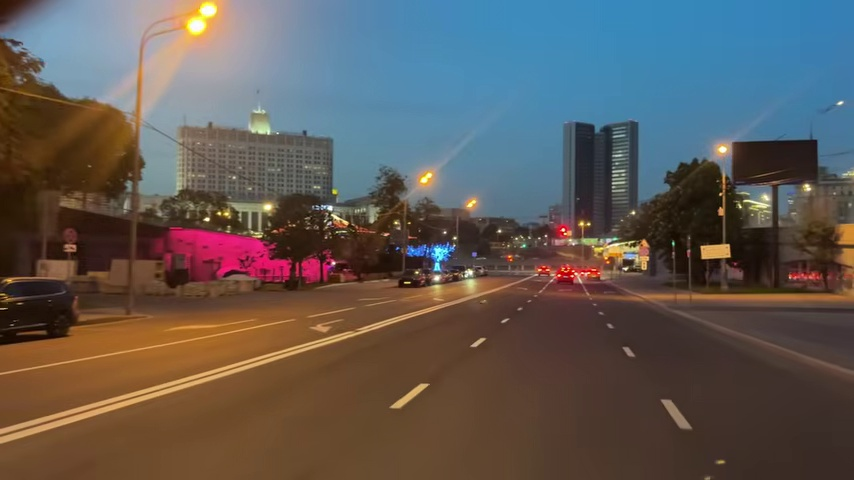acesa: (182, 4, 219, 39), (249, 114, 270, 136), (416, 169, 435, 188), (714, 141, 732, 158), (462, 196, 479, 212)
